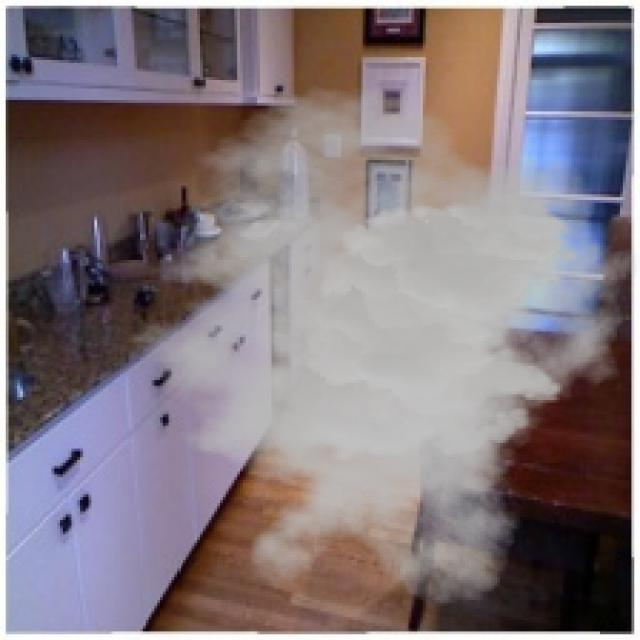smoke: (100, 86, 637, 611)
